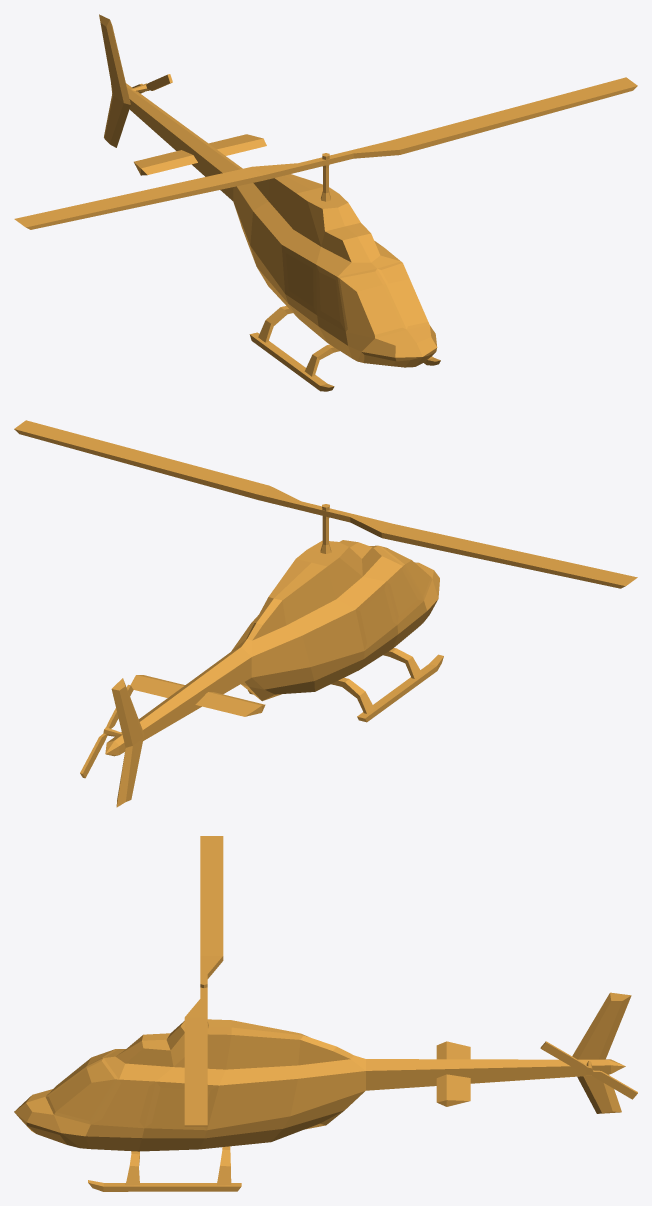
The model's file is helicopter.glb.
3 renders of one model, top to bottom at view 1: azimuth 30°, elevation 25°; view 2: azimuth 150°, elevation 25°; view 3: azimuth 270°, elevation 25°, orthographic. The views are drawn at different scales.
Visible parts, largest first — view 1: helicopter-base, helicopter-propeller-main; view 2: helicopter-base, helicopter-propeller-main, helicopter-propeller-small; view 3: helicopter-base, helicopter-propeller-main, helicopter-propeller-small.
Part boxes in pixels (bbox=[...]): helicopter-base: bbox=[99, 14, 440, 391]; helicopter-propeller-main: bbox=[14, 77, 637, 229]; helicopter-base: bbox=[105, 540, 443, 807]; helicopter-propeller-main: bbox=[14, 420, 637, 588]; helicopter-propeller-small: bbox=[80, 684, 133, 778]; helicopter-base: bbox=[14, 992, 631, 1191]; helicopter-propeller-main: bbox=[184, 836, 223, 1126]; helicopter-propeller-small: bbox=[540, 1041, 637, 1099].
Size of the model in its own units: 10.16 by 3.01 by 9.26.
